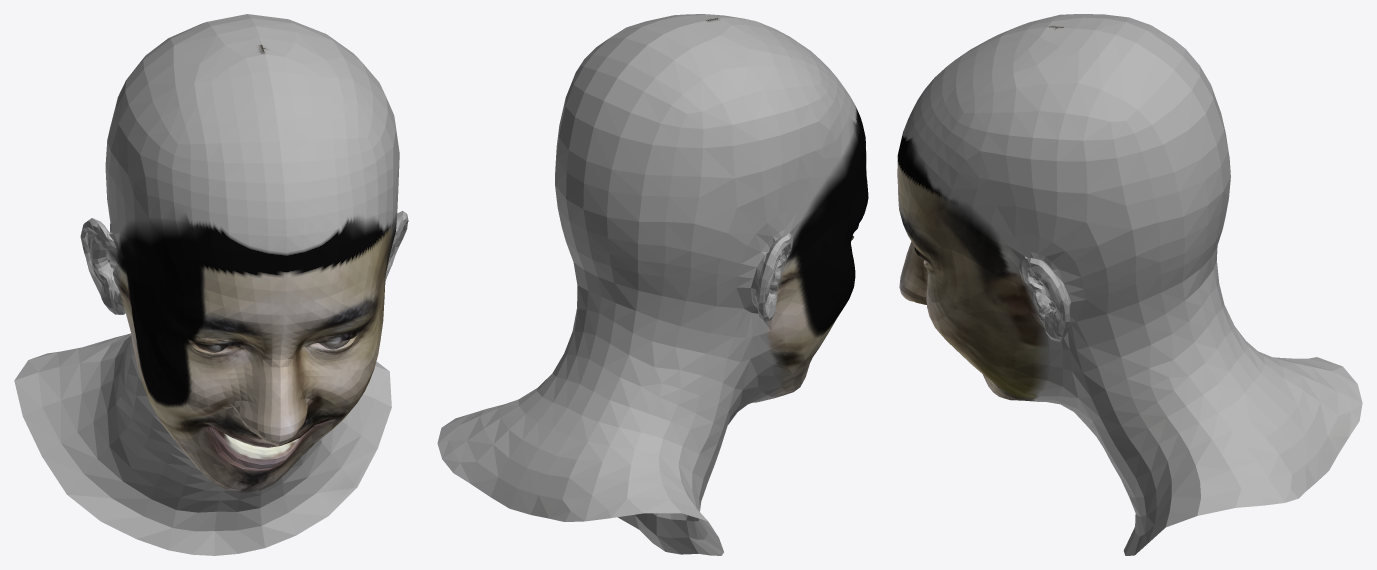
Rendered from ezgif-frame-008.obj.
The picture shows the model from 3 angles, left to right: view 1: azimuth 30°, elevation 25°; view 2: azimuth 150°, elevation 25°; view 3: azimuth 270°, elevation 25°; orthographic projection. The views are drawn at different scales.
Bounding box in the file's own units: 0.2051 × 0.3233 × 0.2686.
Materials: 1 (1 with a texture image).
